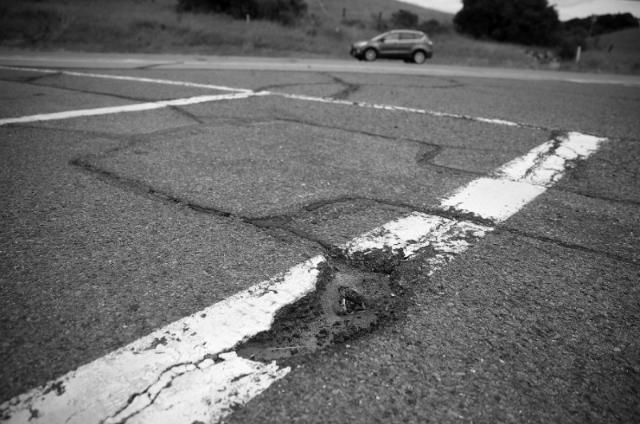Pothole: (232, 238, 408, 369)
